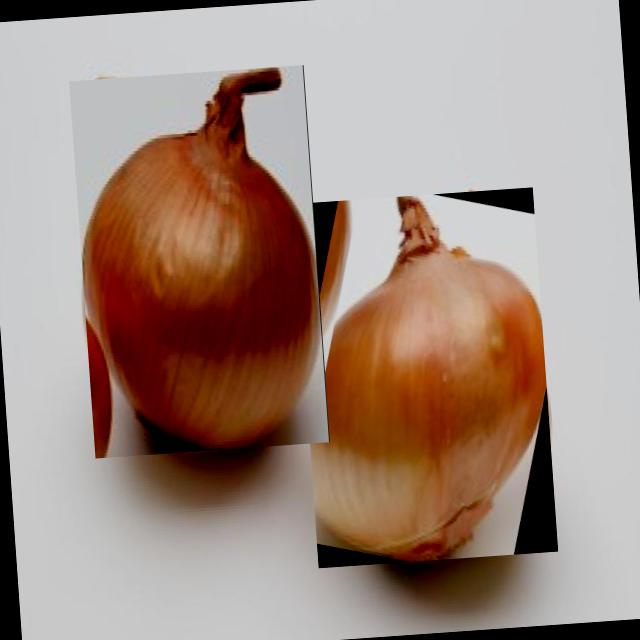healthy: (82, 67, 320, 449), (305, 195, 546, 561)
